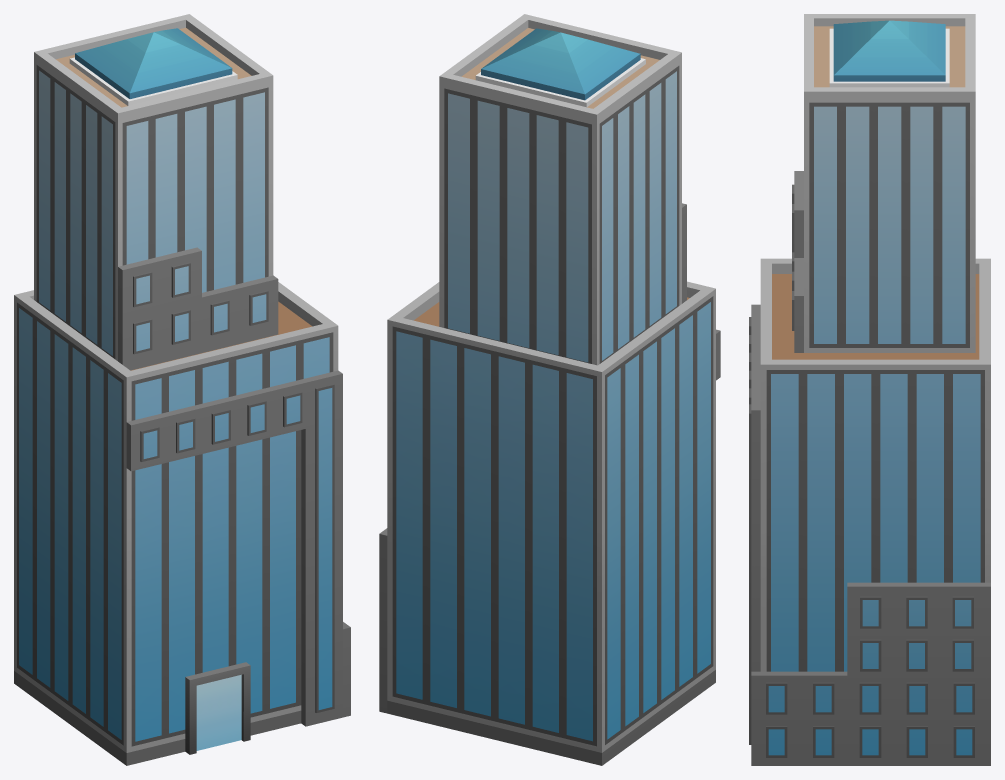
File: building-model-02.glb
3 renders of one model, left to right at view 1: azimuth 30°, elevation 25°; view 2: azimuth 150°, elevation 25°; view 3: azimuth 270°, elevation 25°, orthographic. The views are drawn at different scales.
Visible parts, largest first — view 1: building-model-02; view 2: building-model-02; view 3: building-model-02.
Boxes of the visible parts, <box> form: building-model-02: <box>14,14,350,765</box>; building-model-02: <box>379,14,720,765</box>; building-model-02: <box>749,14,990,765</box>.
Size of the model in its own units: 9.7 by 27.83 by 8.96.
1 material, 1 textured.
